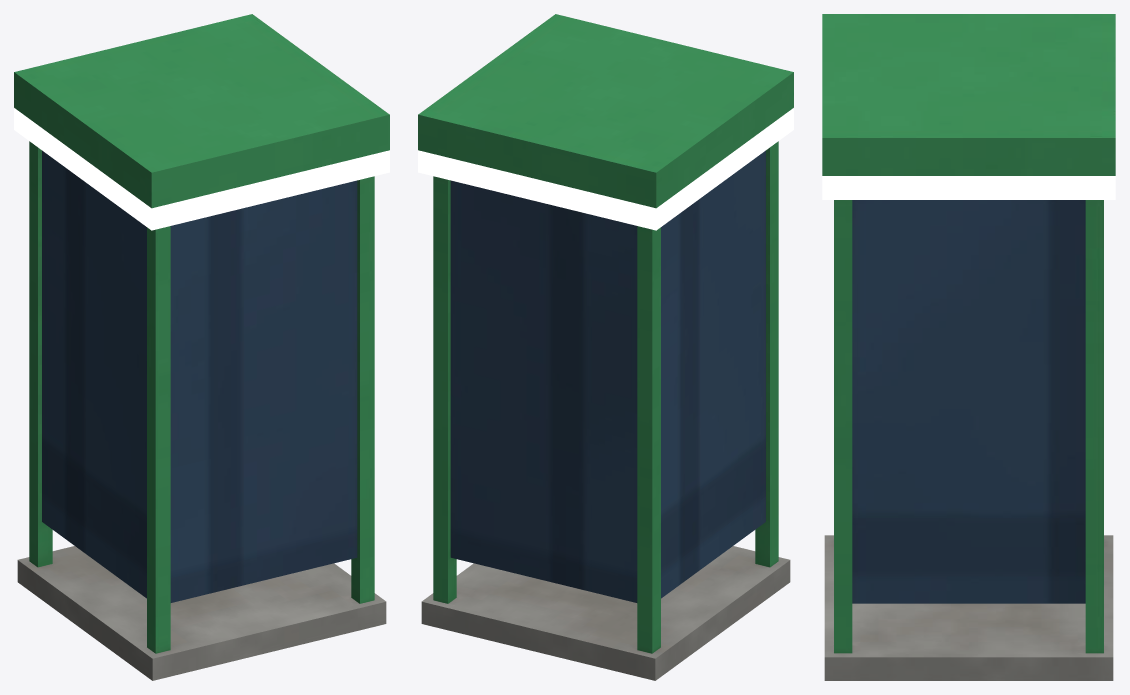
Rendered from telefonkiosk_tex.glb.
3 renders of one model, left to right at view 1: azimuth 30°, elevation 25°; view 2: azimuth 150°, elevation 25°; view 3: azimuth 270°, elevation 25°, orthographic. The views are drawn at different scales.
Visible parts, largest first — view 1: telefonkiosk; view 2: telefonkiosk; view 3: telefonkiosk.
Part boxes in pixels (x1=…): telefonkiosk: x1=14, y1=14, x2=389, y2=680; telefonkiosk: x1=418, y1=14, x2=793, y2=680; telefonkiosk: x1=822, y1=14, x2=1115, y2=680.
Size of the model in its own units: 1.12 by 2.29 by 1.12.
5 materials, 4 textured.
